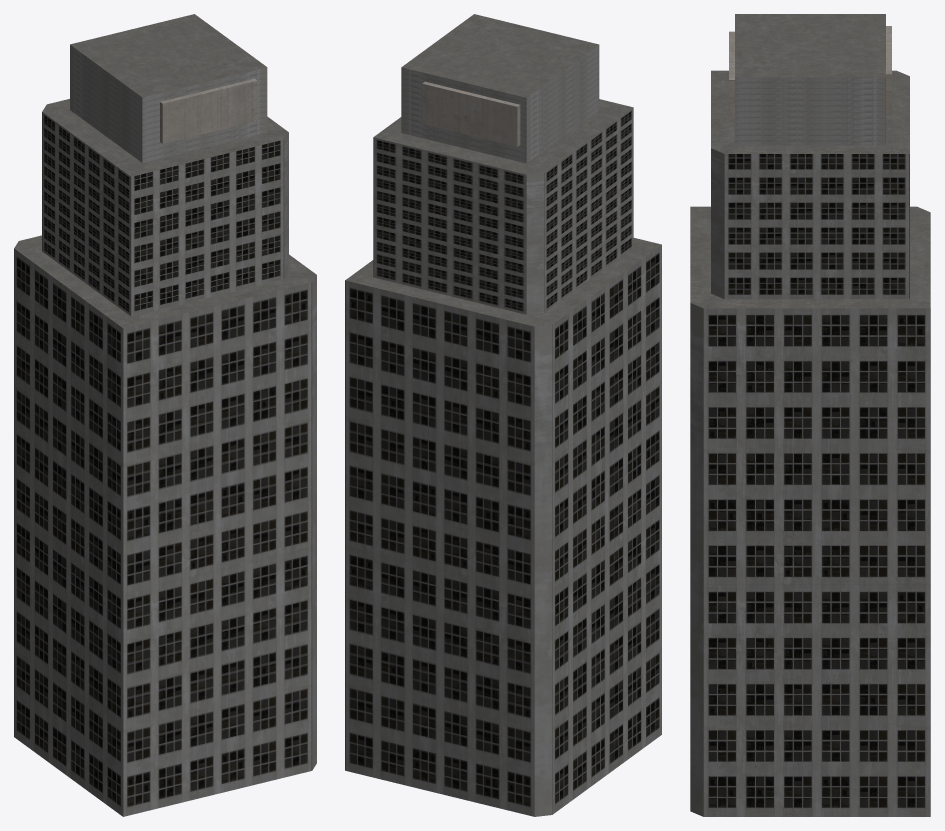
Rendered from PredioLP 2.fbx.
3 renders of one model, left to right at view 1: azimuth 30°, elevation 25°; view 2: azimuth 150°, elevation 25°; view 3: azimuth 270°, elevation 25°, orthographic. The views are drawn at different scales.
Parts seen in each view (by area): view 1: Prédio_2_LP; view 2: Prédio_2_LP; view 3: Prédio_2_LP.
Boxes of the visible parts, x1,y1,x2,y2 form: Prédio_2_LP: (14,14,316,816); Prédio_2_LP: (345,14,661,816); Prédio_2_LP: (690,14,930,816).
Bounding box in the file's own units: 180 × 596 × 180.
